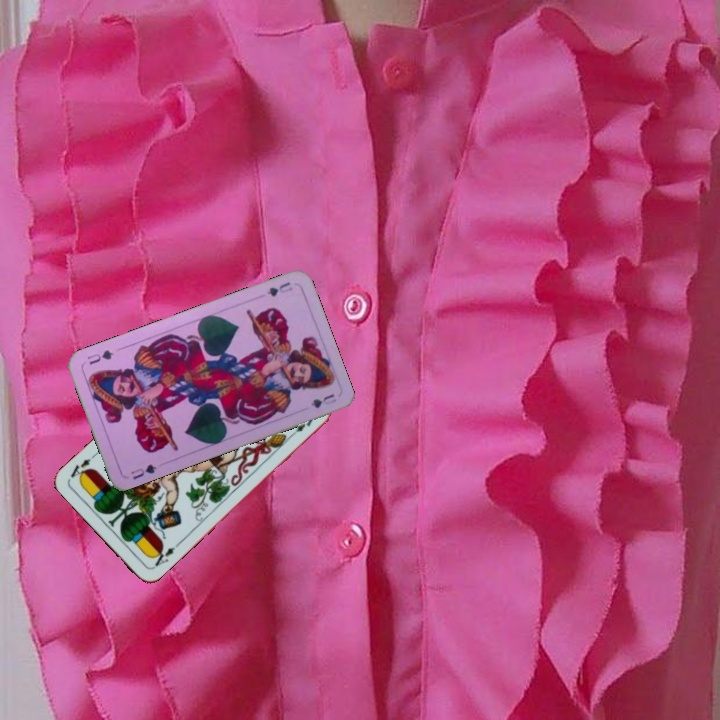EA: (147, 539, 182, 571)
GU: (126, 460, 159, 482), (263, 278, 295, 299)
